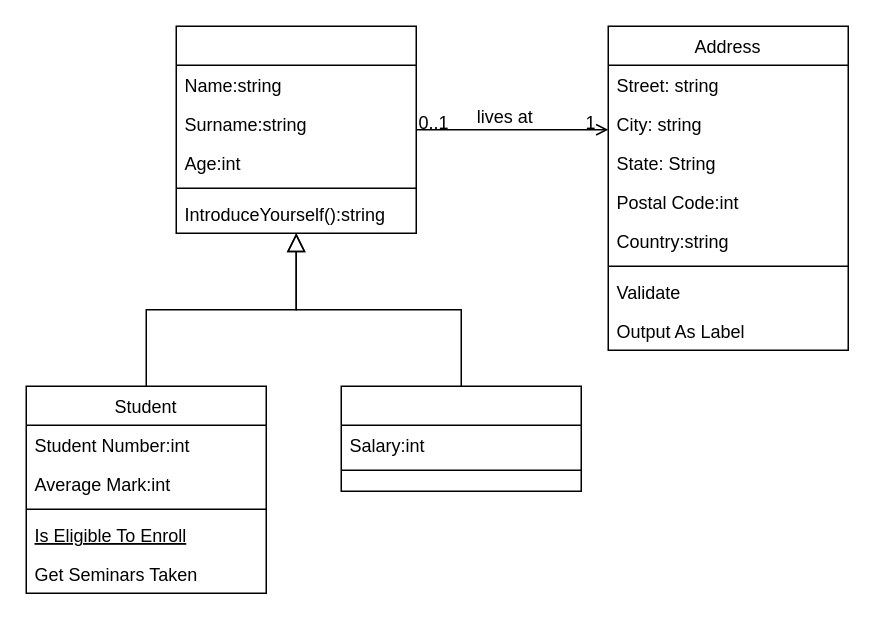
The diagram is 875 pixels wide and 624 high, and some of its shapes have lost their labels. Here are the shapes that lost their labels. From the top down, the box of each, then its label:
(175, 25, 416, 233): Person
(340, 385, 581, 491): Professor
